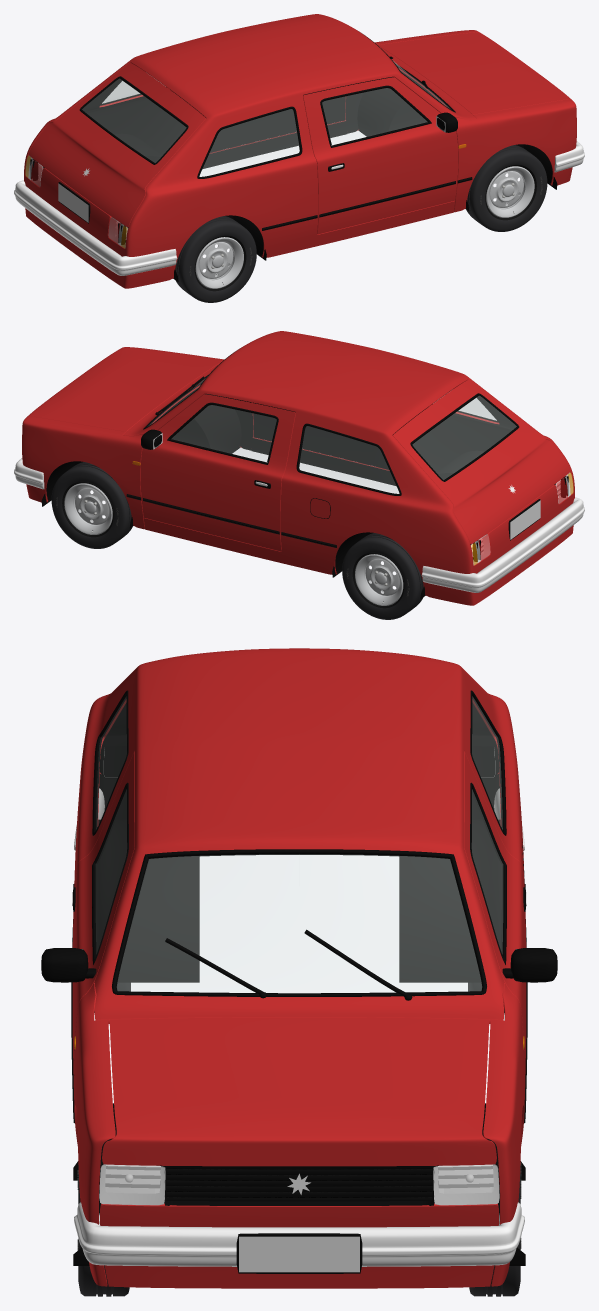
File: jabuti-molde.glb
3 views of the same model, one above another, from view 1: azimuth 30°, elevation 25°; view 2: azimuth 150°, elevation 25°; view 3: azimuth 270°, elevation 25° (orthographic). The views are drawn at different scales.
Parts seen in each view (by area): view 1: body, door_fr, trunk, hood, fender_front_right, glass_rear, glass_door_rr, glass_door_fr, bumper_rear, wheel_rr_tire, wheel_fr_tire, door_fl (+9 smaller); view 2: body, door_fl, trunk, hood, fender_front_left, glass_rear, glass_door_rl, glass_door_fl, bumper_rear, wheel_rl_tire, wheel_fl_tire, door_fr (+9 smaller); view 3: body, hood, glass_windshield, bumper_front, grille, fender_front_left, fender_front_right, plate_front, door_fl, door_fr, glass_door_fl, glass_door_fr (+10 smaller).
Boxes of the visible parts, box(x1,y1,x2,y2) form: body: box(24, 14, 557, 288); door_fr: box(303, 77, 458, 234); trunk: box(28, 62, 205, 227); hood: box(378, 32, 571, 114); fender_front_right: box(454, 99, 576, 212); glass_rear: box(79, 76, 188, 164); glass_door_rr: box(197, 106, 302, 178); glass_door_fr: box(320, 85, 431, 147); bumper_rear: box(14, 180, 177, 275); wheel_rr_tire: box(175, 216, 256, 302); wheel_fr_tire: box(466, 145, 547, 231); door_fl: box(209, 85, 345, 152); body: box(41, 331, 574, 605); door_fl: box(140, 394, 295, 551); trunk: box(393, 379, 570, 544); hood: box(27, 349, 220, 431); fender_front_left: box(22, 416, 144, 529); glass_rear: box(410, 393, 519, 481); glass_door_rl: box(296, 423, 401, 495); glass_door_fl: box(167, 402, 278, 464); bumper_rear: box(421, 497, 584, 592); wheel_rl_tire: box(342, 533, 423, 619); wheel_fl_tire: box(51, 462, 132, 548); door_fr: box(253, 402, 389, 469); body: box(72, 648, 526, 1288); hood: box(102, 1017, 496, 1166); glass_windshield: box(112, 849, 486, 996); bumper_front: box(74, 1202, 524, 1266); grille: box(164, 1166, 434, 1205); fender_front_left: box(483, 982, 525, 1286); fender_front_right: box(73, 982, 115, 1286); plate_front: box(236, 1233, 362, 1273); door_fl: box(464, 751, 527, 1103); door_fr: box(71, 751, 134, 1103); glass_door_fl: box(470, 782, 506, 964); glass_door_fr: box(92, 782, 128, 964).
Size of the model in its own units: 3.63 by 1.35 by 1.71.
38 materials, 1 textured.
